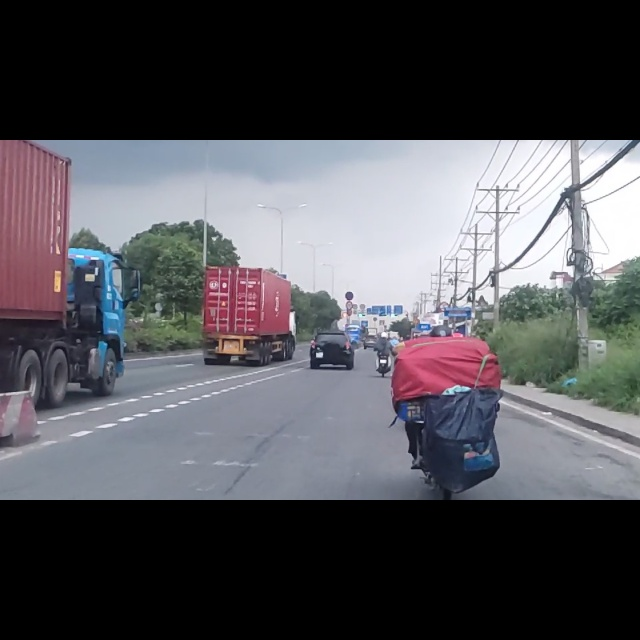bien_cam: (345, 269, 354, 286)
